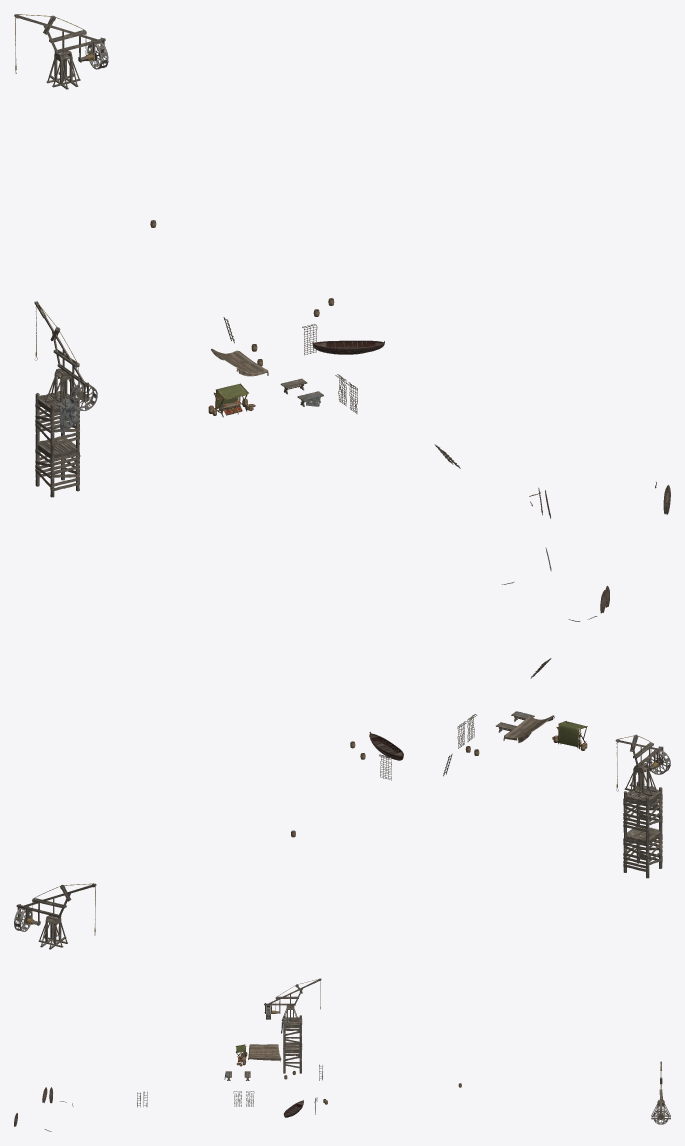
The model's file is dressing_v1.glb.
3 views of the same model, one above another, from view 1: azimuth 30°, elevation 25°; view 2: azimuth 150°, elevation 25°; view 3: azimuth 270°, elevation 25° (orthographic). The views are drawn at different scales.
Parts seen in each view (by area): view 1: DR_Crane_Arm_ambientCG.001, DR_Crane_Arm_ambientCG, DR_Platform_1_polyhaven.001, DR_Platform_1_polyhaven, DR_Grocery_store.001, DR_SM_Boat_22.002; view 2: DR_Crane_Arm_ambientCG.001, DR_Crane_Arm_ambientCG, DR_Platform_1_polyhaven.001, DR_Platform_1_polyhaven, DR_Grocery_store.001; view 3: DR_Crane_Arm_ambientCG, DR_Lean_canvas, DR_Platform_1_polyhaven.001, DR_Crane_Arm_ambientCG.001, DR_Platform_1_polyhaven.
Boxes of the visible parts, x1,y1,x2,y2 form: DR_Crane_Arm_ambientCG.001: [14, 14, 108, 89]; DR_Crane_Arm_ambientCG: [34, 301, 97, 410]; DR_Platform_1_polyhaven.001: [35, 433, 80, 497]; DR_Platform_1_polyhaven: [35, 391, 79, 451]; DR_Grocery_store.001: [208, 383, 255, 417]; DR_SM_Boat_22.002: [312, 340, 384, 354]; DR_Crane_Arm_ambientCG.001: [14, 883, 96, 949]; DR_Crane_Arm_ambientCG: [615, 734, 670, 796]; DR_Platform_1_polyhaven.001: [623, 823, 662, 878]; DR_Platform_1_polyhaven: [623, 782, 662, 838]; DR_Grocery_store.001: [552, 721, 587, 750]; DR_Crane_Arm_ambientCG: [264, 978, 321, 1026]; DR_Lean_canvas: [248, 1044, 281, 1061]; DR_Platform_1_polyhaven.001: [283, 1042, 302, 1073]; DR_Crane_Arm_ambientCG.001: [651, 1061, 670, 1124]; DR_Platform_1_polyhaven: [283, 1015, 302, 1048].
Bounding box in the file's own units: 46.38 × 18.71 × 121.
Materials: 22 (22 with a texture image).
